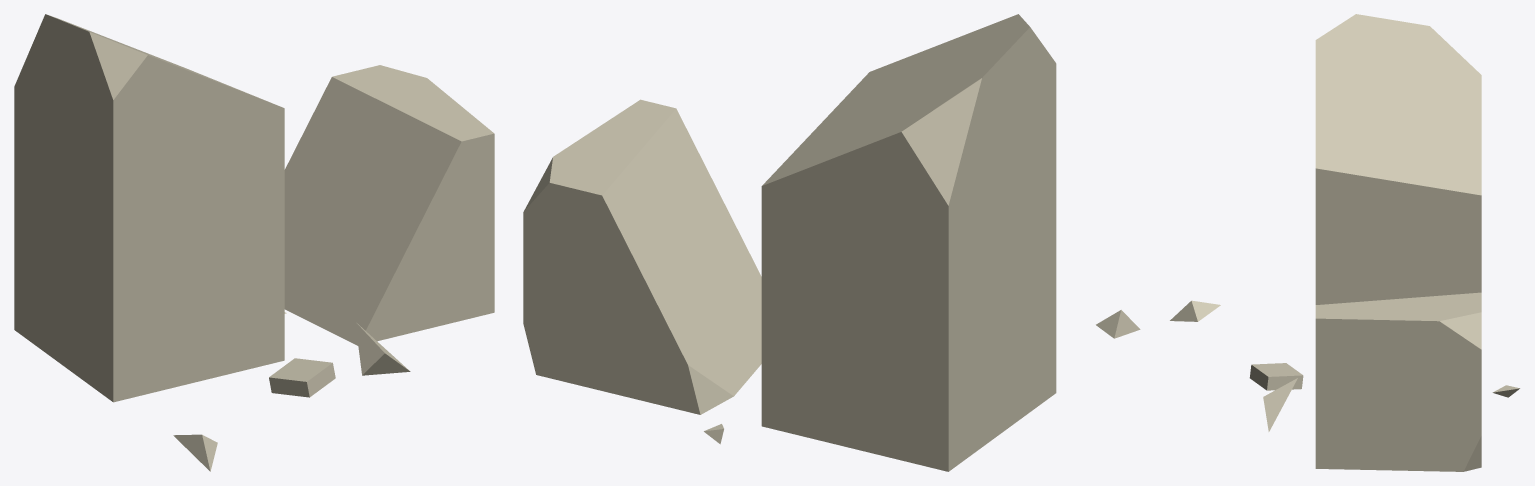
File: Rock_Square_crk_m_01.fbx
3 views of the same model, side by side, from view 1: azimuth 30°, elevation 25°; view 2: azimuth 150°, elevation 25°; view 3: azimuth 270°, elevation 25° (orthographic). The views are drawn at different scales.
Parts seen in each view (by area): view 1: Rock_Square_crk_m_01; view 2: Rock_Square_crk_m_01; view 3: Rock_Square_crk_m_01.
Boxes of the visible parts, bbox=[...] form: Rock_Square_crk_m_01: bbox=[14, 14, 494, 471]; Rock_Square_crk_m_01: bbox=[523, 14, 1140, 471]; Rock_Square_crk_m_01: bbox=[1170, 14, 1519, 471].
Bounding box in the file's own units: 98.33 × 88.65 × 91.45.
